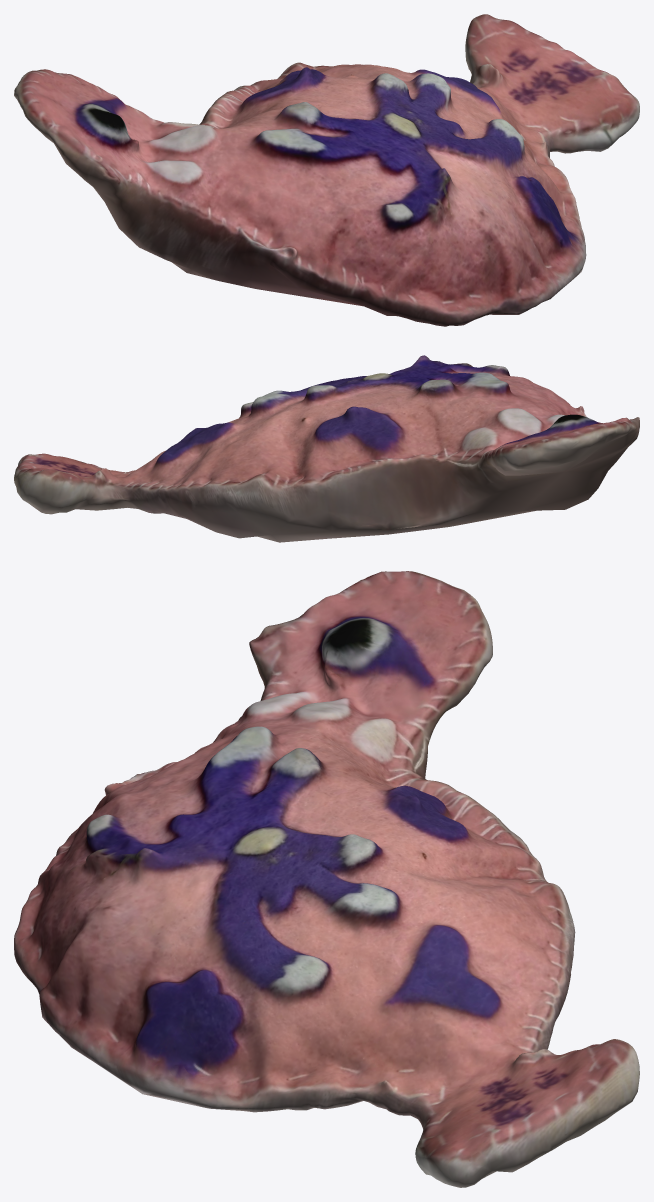
The picture shows the model from 3 angles, top to bottom: view 1: azimuth 30°, elevation 25°; view 2: azimuth 150°, elevation 25°; view 3: azimuth 270°, elevation 25°; orthographic projection. The views are drawn at different scales.
Bounding box in the file's own units: 0.9236 × 0.2855 × 0.6332.
Materials: 1 (1 with a texture image).
